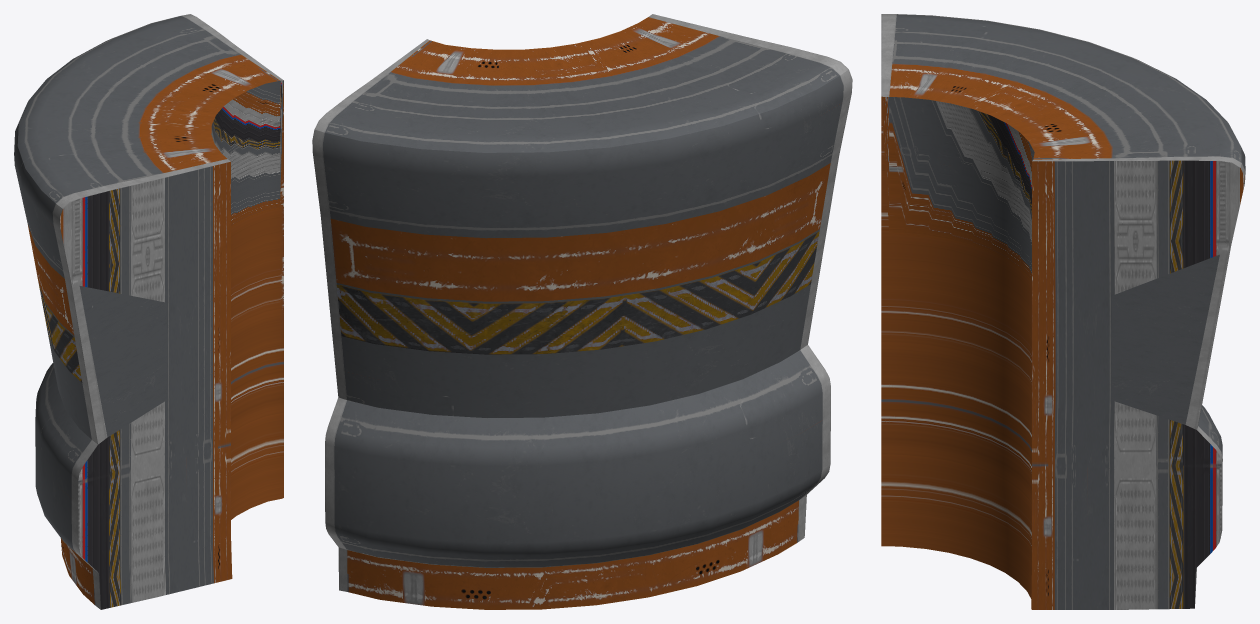
File: wall_IN_c.FBX
3 renders of one model, left to right at view 1: azimuth 30°, elevation 25°; view 2: azimuth 150°, elevation 25°; view 3: azimuth 270°, elevation 25°, orthographic. The views are drawn at different scales.
Parts seen in each view (by area): view 1: Object016; view 2: Object016; view 3: Object016.
Part boxes in pixels (x1=…): Object016: x1=14, y1=14, x2=283, y2=609; Object016: x1=312, y1=14, x2=852, y2=609; Object016: x1=881, y1=14, x2=1245, y2=609.
Bounding box in the file's own units: 221 × 300 × 221.
